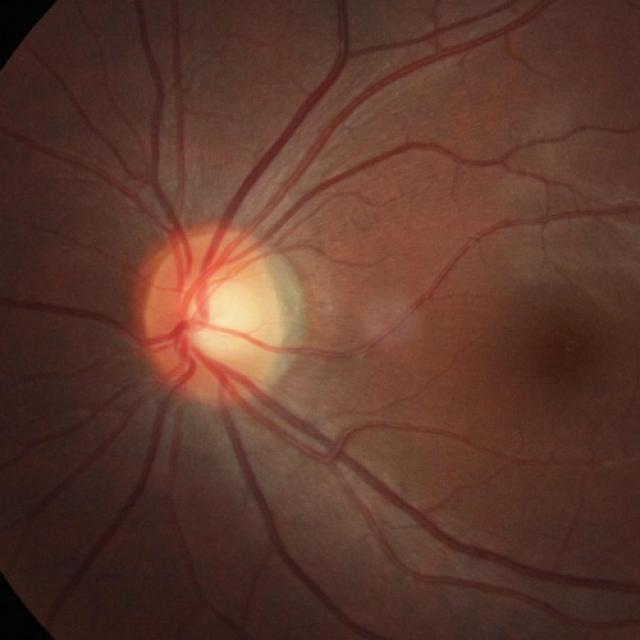OC: (187, 283, 258, 356)
OD: (139, 234, 286, 404)
